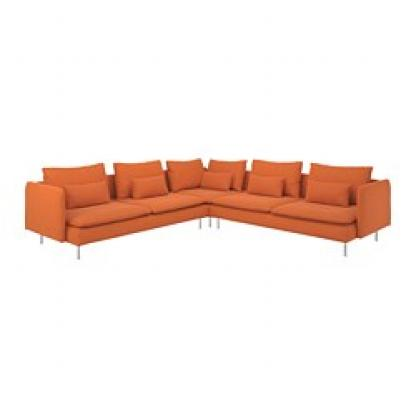Sofa: (15, 123, 398, 273)
